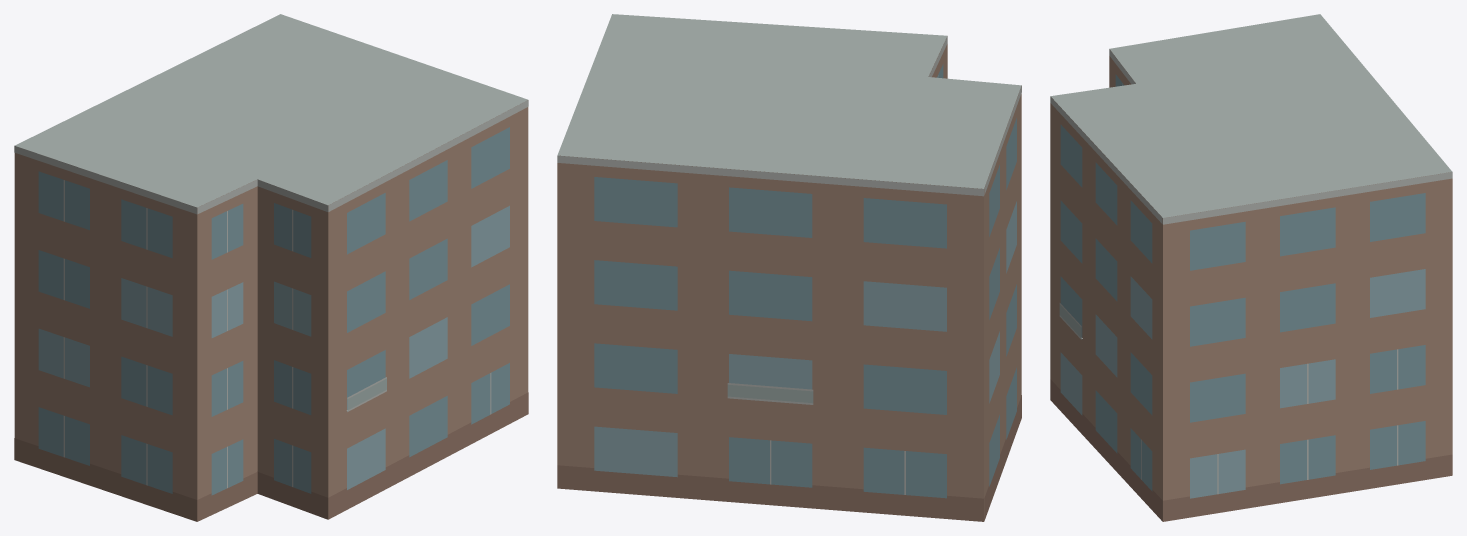
The model's file is survey-upis-32950905.glb.
The picture shows the model from 3 angles, left to right: view 1: azimuth 30°, elevation 25°; view 2: azimuth 150°, elevation 25°; view 3: azimuth 270°, elevation 25°; orthographic projection. The views are drawn at different scales.
Visible parts, largest first — view 1: survey-upis-32950905.tmp; view 2: survey-upis-32950905.tmp; view 3: survey-upis-32950905.tmp.
Boxes of the visible parts, <box> form: survey-upis-32950905.tmp: <box>14,14,528,521</box>; survey-upis-32950905.tmp: <box>557,14,1021,521</box>; survey-upis-32950905.tmp: <box>1050,14,1452,521</box>.
Bounding box in the file's own units: 15.94 × 11.06 × 13.28.
